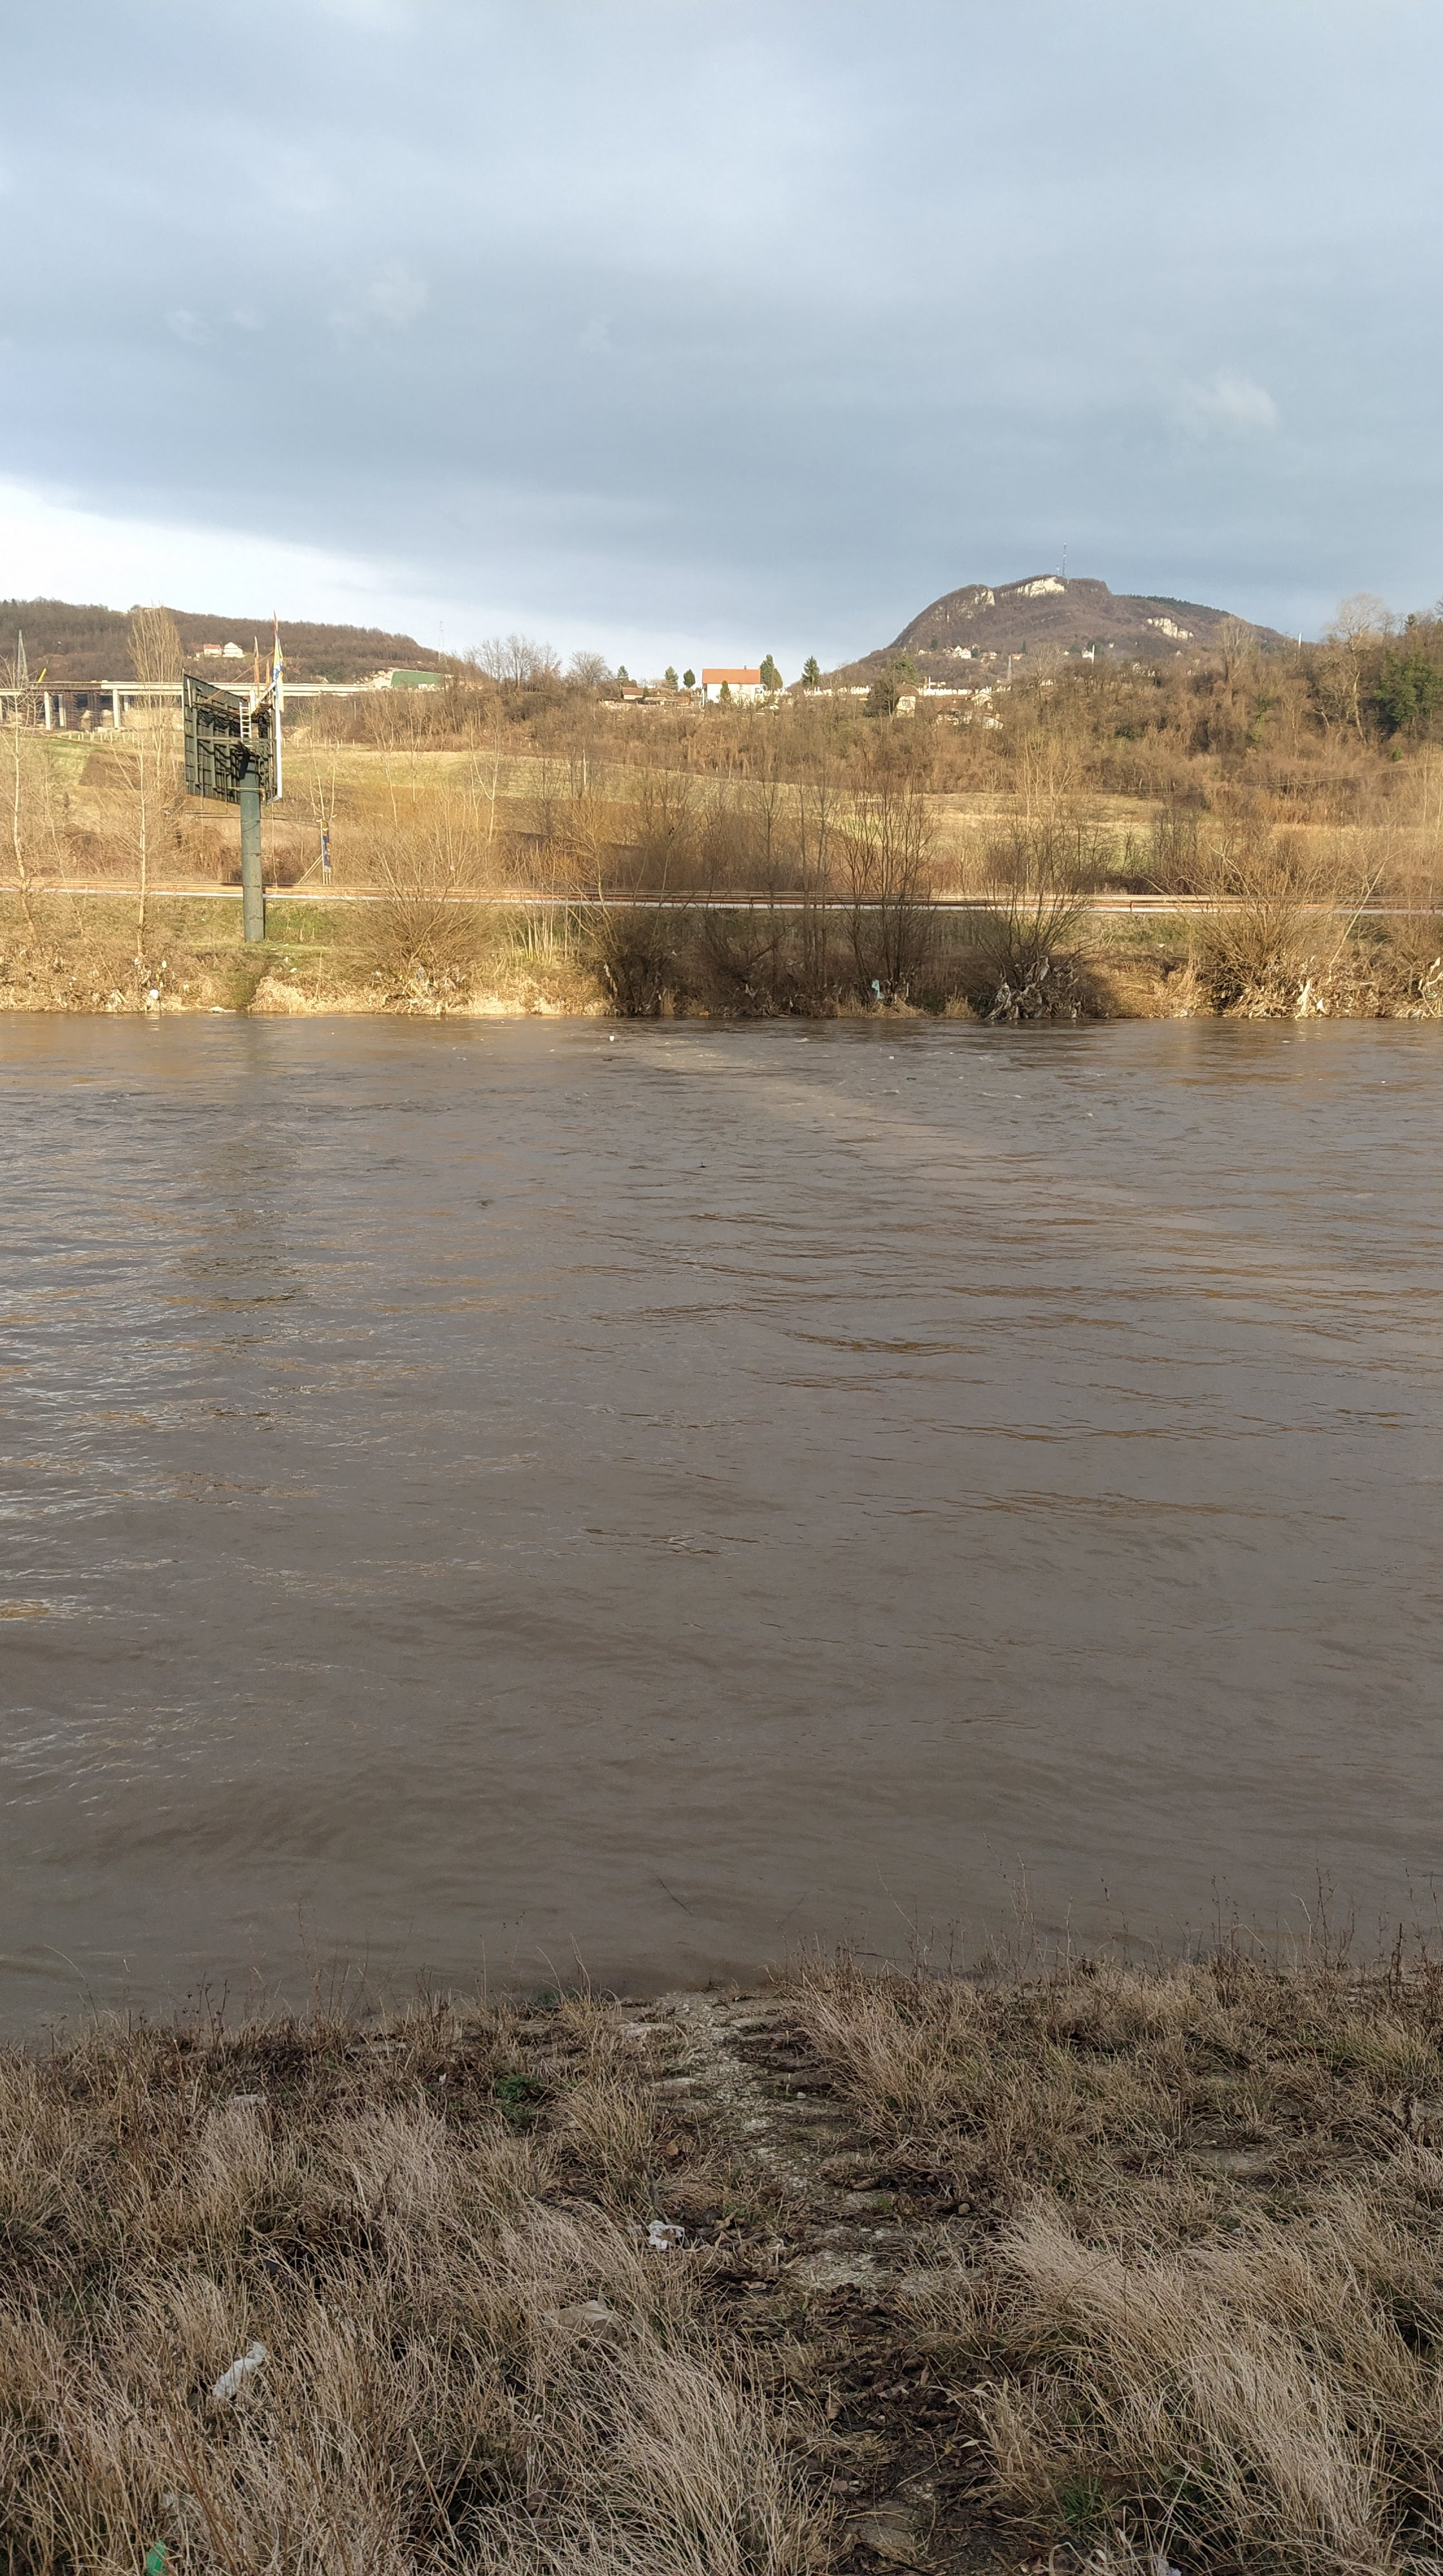Plastic Bottle: (604, 1056, 613, 1062), (907, 1077, 915, 1079)
